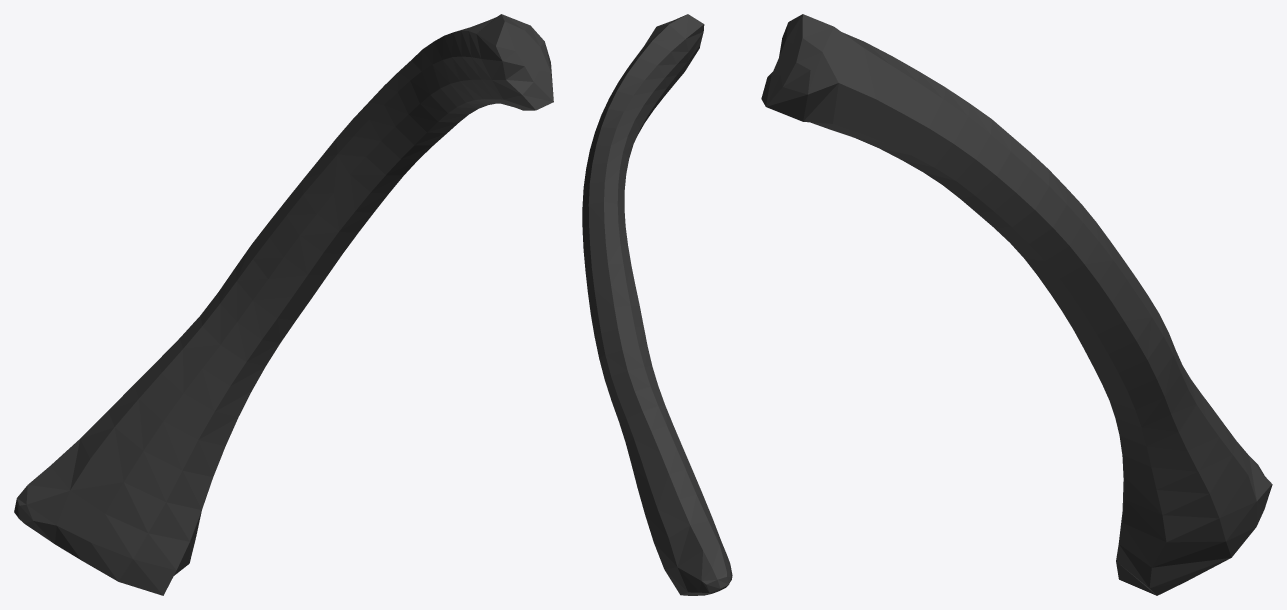
Rendered from Caud_cruc_lig.glb.
The picture shows the model from 3 angles, left to right: view 1: azimuth 30°, elevation 25°; view 2: azimuth 150°, elevation 25°; view 3: azimuth 270°, elevation 25°; orthographic projection. The views are drawn at different scales.
Parts seen in each view (by area): view 1: Caud_cruc_lig; view 2: Caud_cruc_lig; view 3: Caud_cruc_lig.
Boxes of the visible parts, x1=… form: Caud_cruc_lig: x1=14, y1=14, x2=553, y2=595; Caud_cruc_lig: x1=582, y1=14, x2=732, y2=595; Caud_cruc_lig: x1=761, y1=14, x2=1272, y2=595.
Size of the model in its own units: 0.3305 by 0.6373 by 0.44.
Materials: 1 (1 with a texture image).
